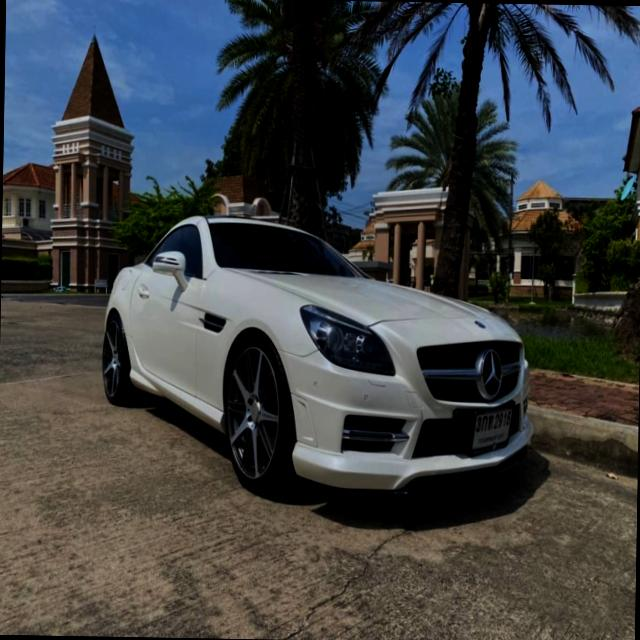license_plate: (465, 399, 518, 459)
